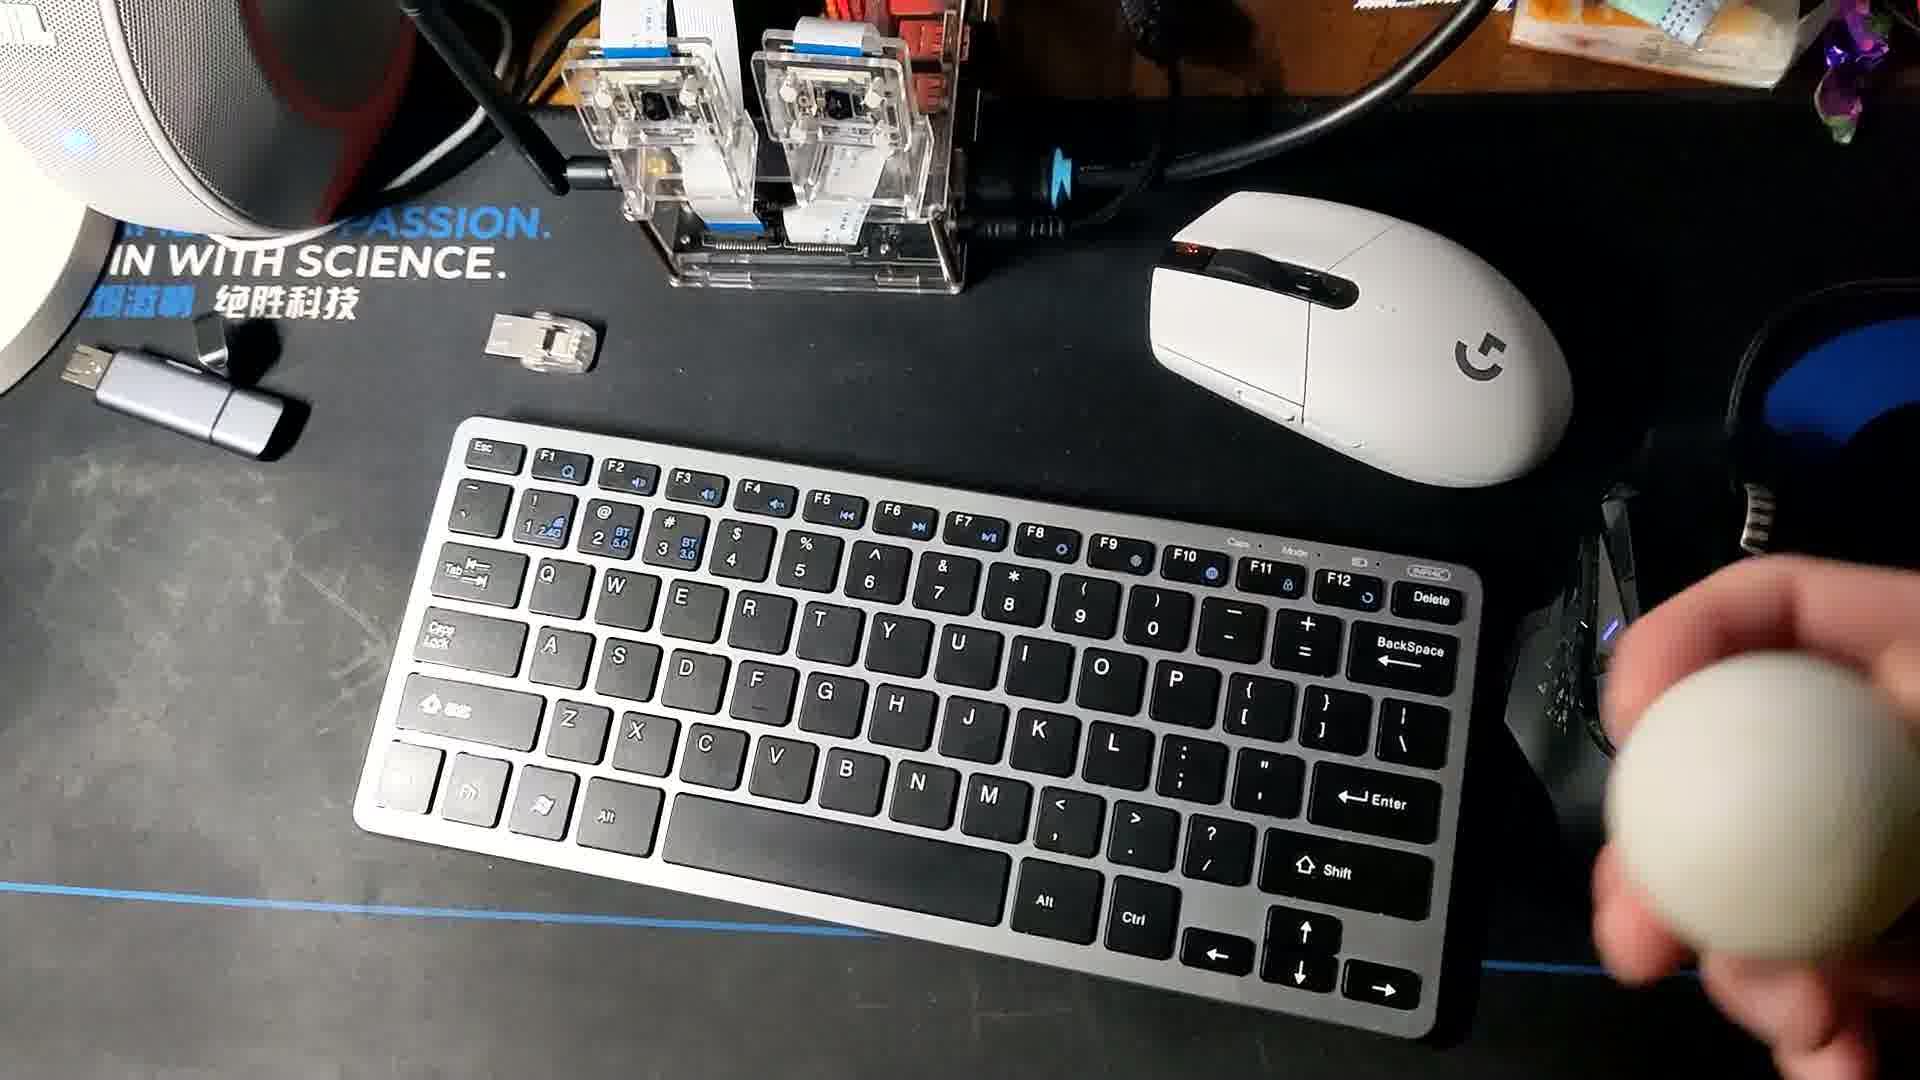Ball: (1606, 650, 1920, 959)
